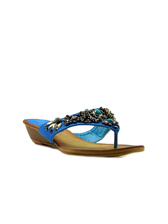shoes: (19, 105, 153, 161)
